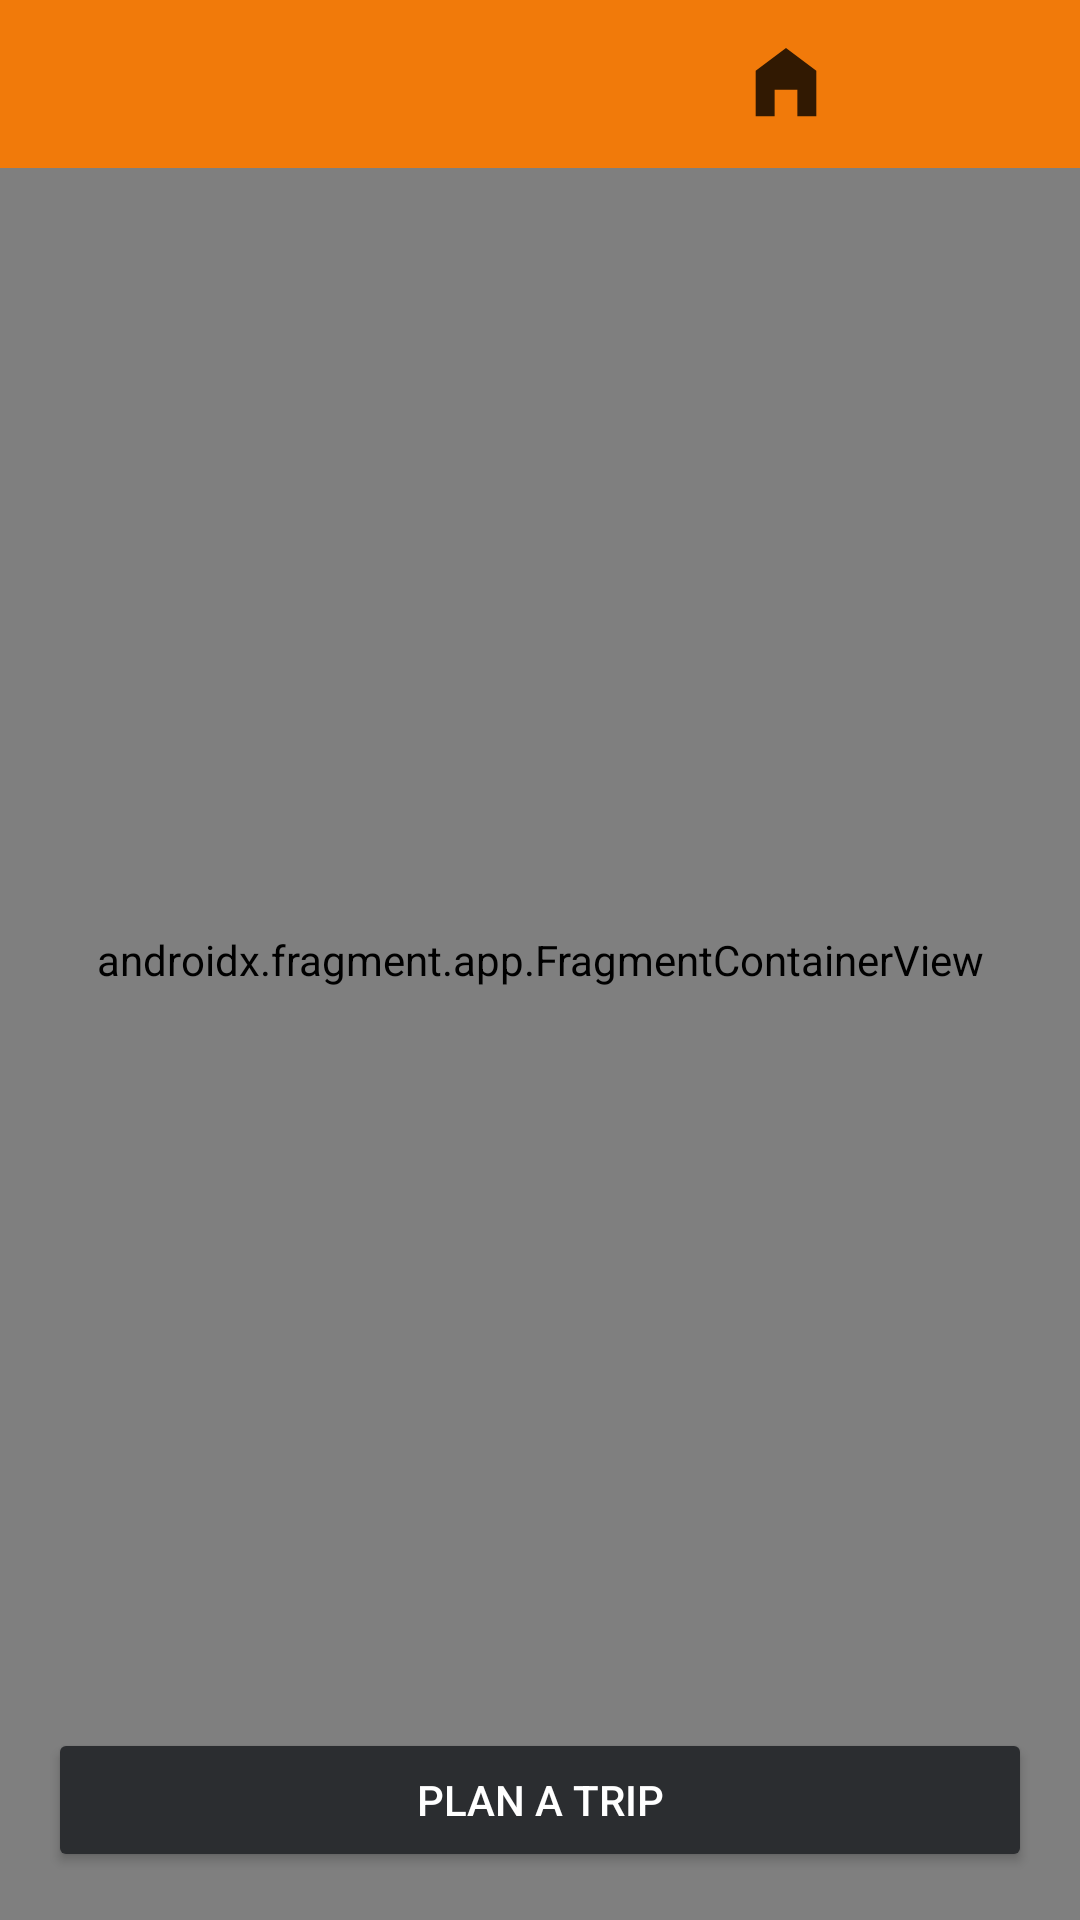

Named icons in this screenshot (1080 x 1920) and their centers, (x=x, y=y):
Home: (x=786, y=82)
